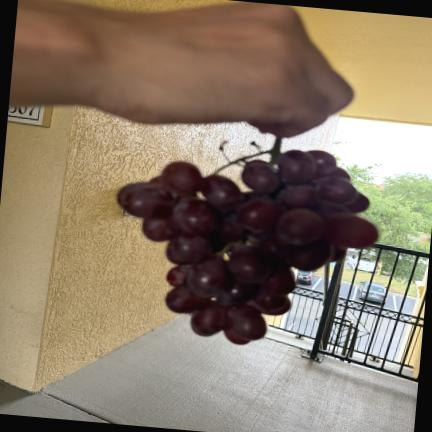grape_cluster: (117, 139, 378, 344)
